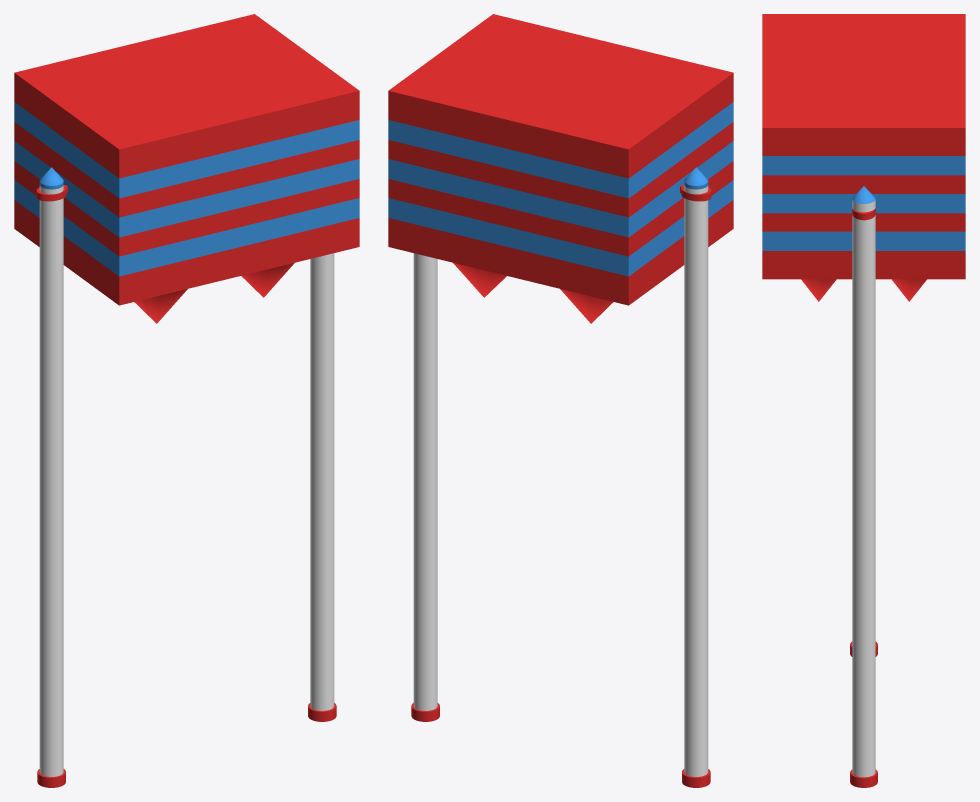
File: obstacle3.fbx
3 views of the same model, side by side, from view 1: azimuth 30°, elevation 25°; view 2: azimuth 150°, elevation 25°; view 3: azimuth 270°, elevation 25° (orthographic). The views are drawn at different scales.
Parts seen in each view (by area): view 1: Cube.001, Cylinder; view 2: Cube.001, Cylinder; view 3: Cube.001, Cylinder.
Part boxes in pixels (box(x1,y1,x2,y2)): Cube.001: box(14, 14, 359, 323); Cylinder: box(37, 167, 336, 787); Cube.001: box(388, 14, 733, 323); Cylinder: box(411, 167, 710, 787); Cube.001: box(762, 14, 965, 301); Cylinder: box(850, 186, 877, 787).
Size of the model in its own units: 84.6 by 181 by 51.55.
Materials: 1 (1 with a texture image).
